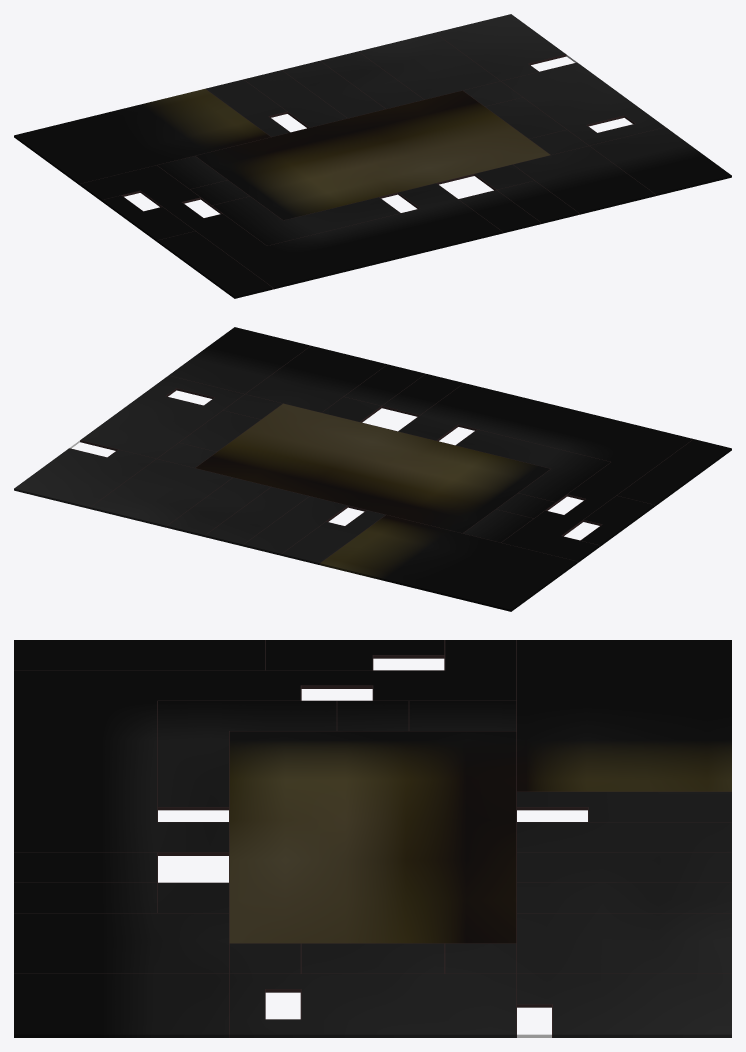
The model's file is Lobby Floor.fbx.
3 renders of one model, top to bottom at view 1: azimuth 30°, elevation 25°; view 2: azimuth 150°, elevation 25°; view 3: azimuth 270°, elevation 25°, orthographic. The views are drawn at different scales.
Visible parts, largest first — view 1: Lobby Floor; view 2: Lobby Floor; view 3: Lobby Floor.
Part boxes in pixels (<box>): Lobby Floor: <box>14,14,731,298</box>; Lobby Floor: <box>14,327,731,611</box>; Lobby Floor: <box>14,640,731,1037</box>.
Size of the model in its own units: 65.04 by 50.01 by 0.25.
